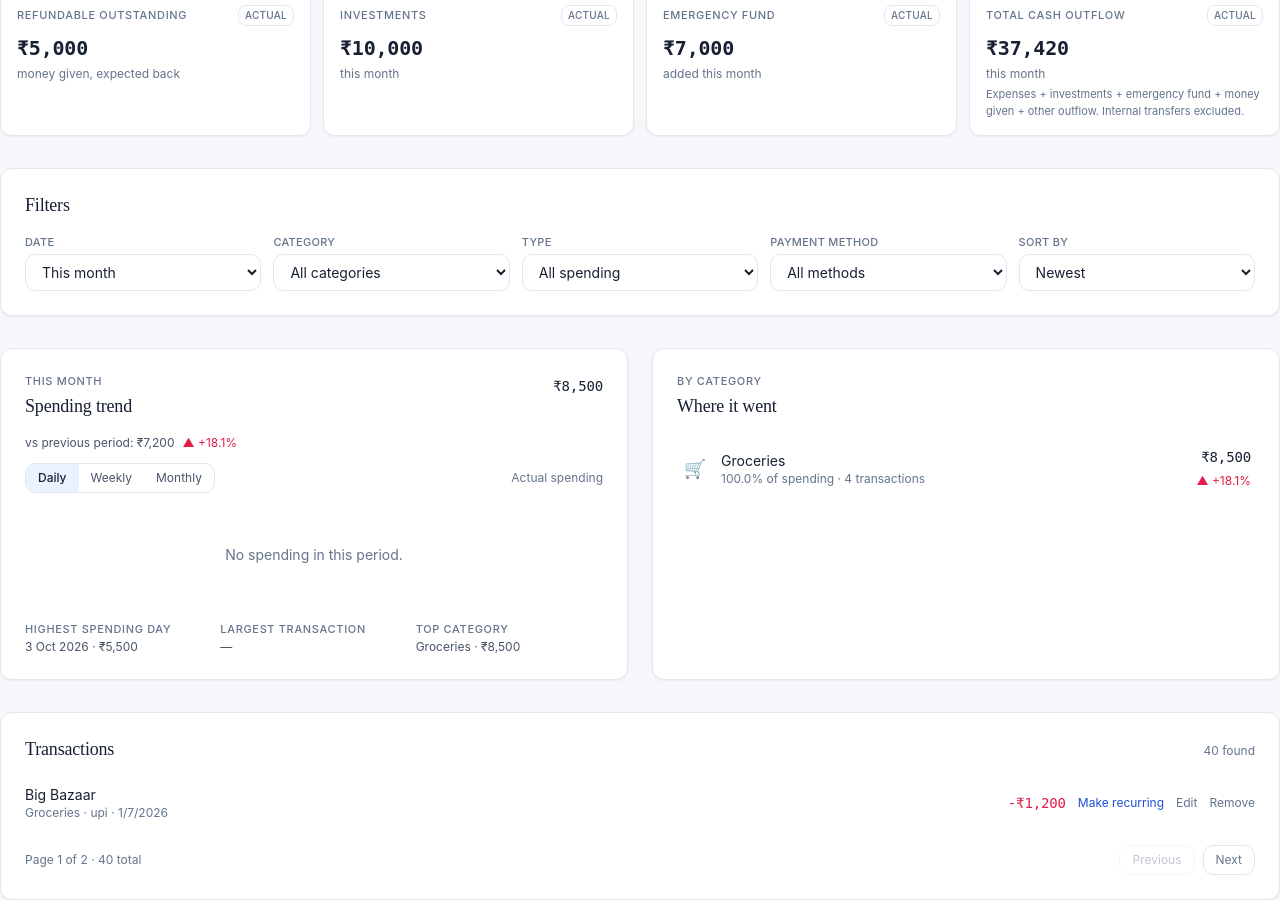
Test: ExpensesPage — transactions & pagination › fetches the next page when Next is clicked
(page scrolled)
Check: the text "Big Bazaar" is shown, box [25,786,96,803]
What coordinates should you click on to do the following:
click the button "Next"
I would click on:
 (1229, 860)
Its box is [1202,845,1255,875].
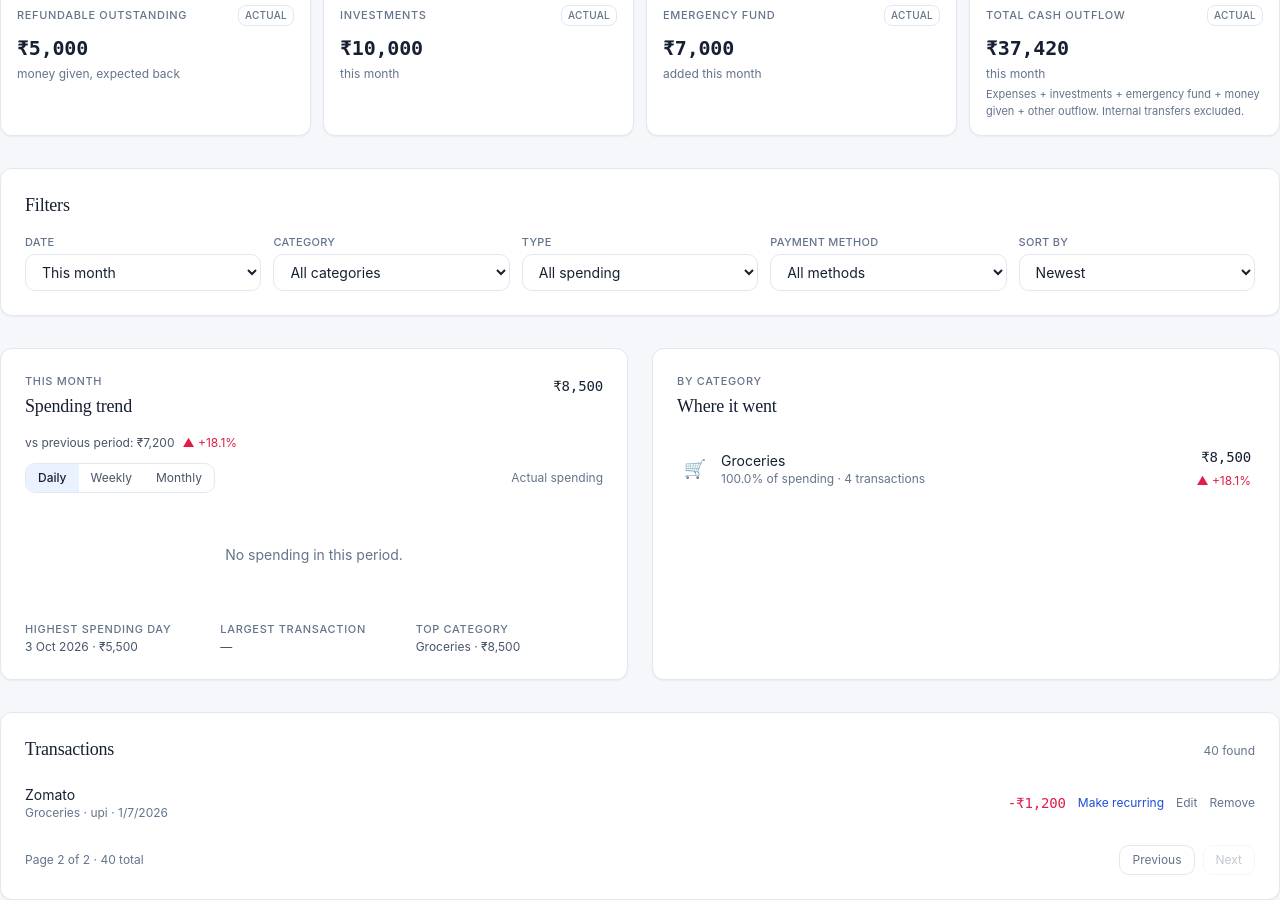
Check: the text "Zomato" is shown, box [25,786,75,803]
